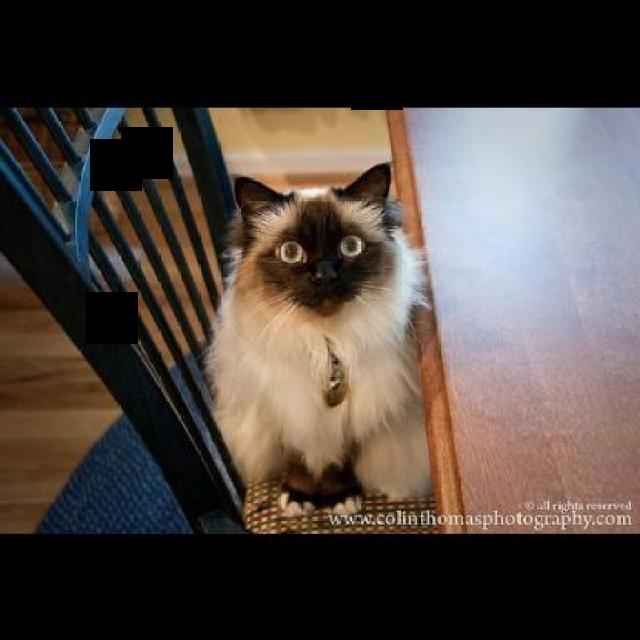unauthorized: (201, 160, 434, 517)
